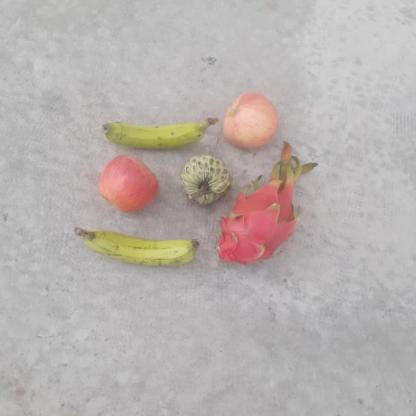annona: (178, 151, 236, 208)
apple: (95, 151, 162, 218), (218, 90, 282, 154)
banana: (82, 222, 199, 273), (103, 112, 214, 153)
pitaya: (216, 183, 299, 266)
